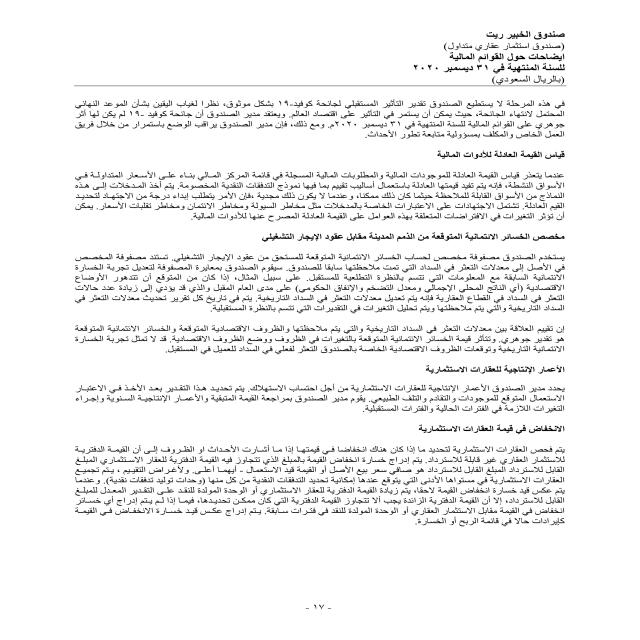notes: (449, 52, 574, 64)
text: (57, 94, 571, 545)
